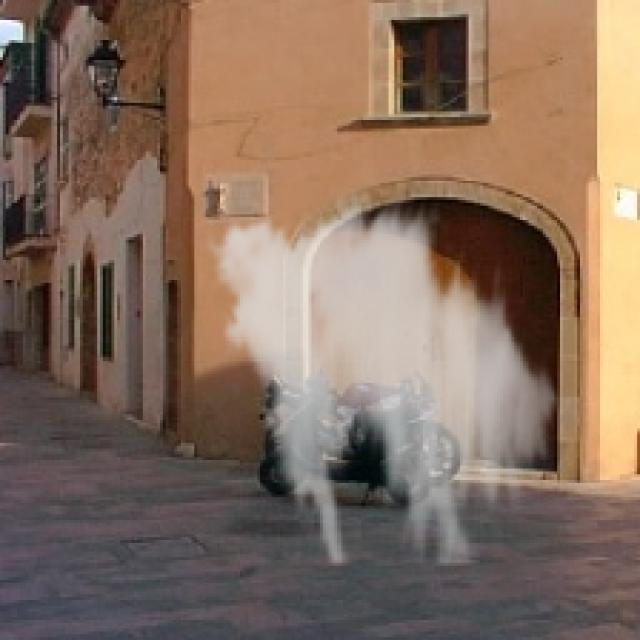Smoke: (197, 188, 569, 566)
